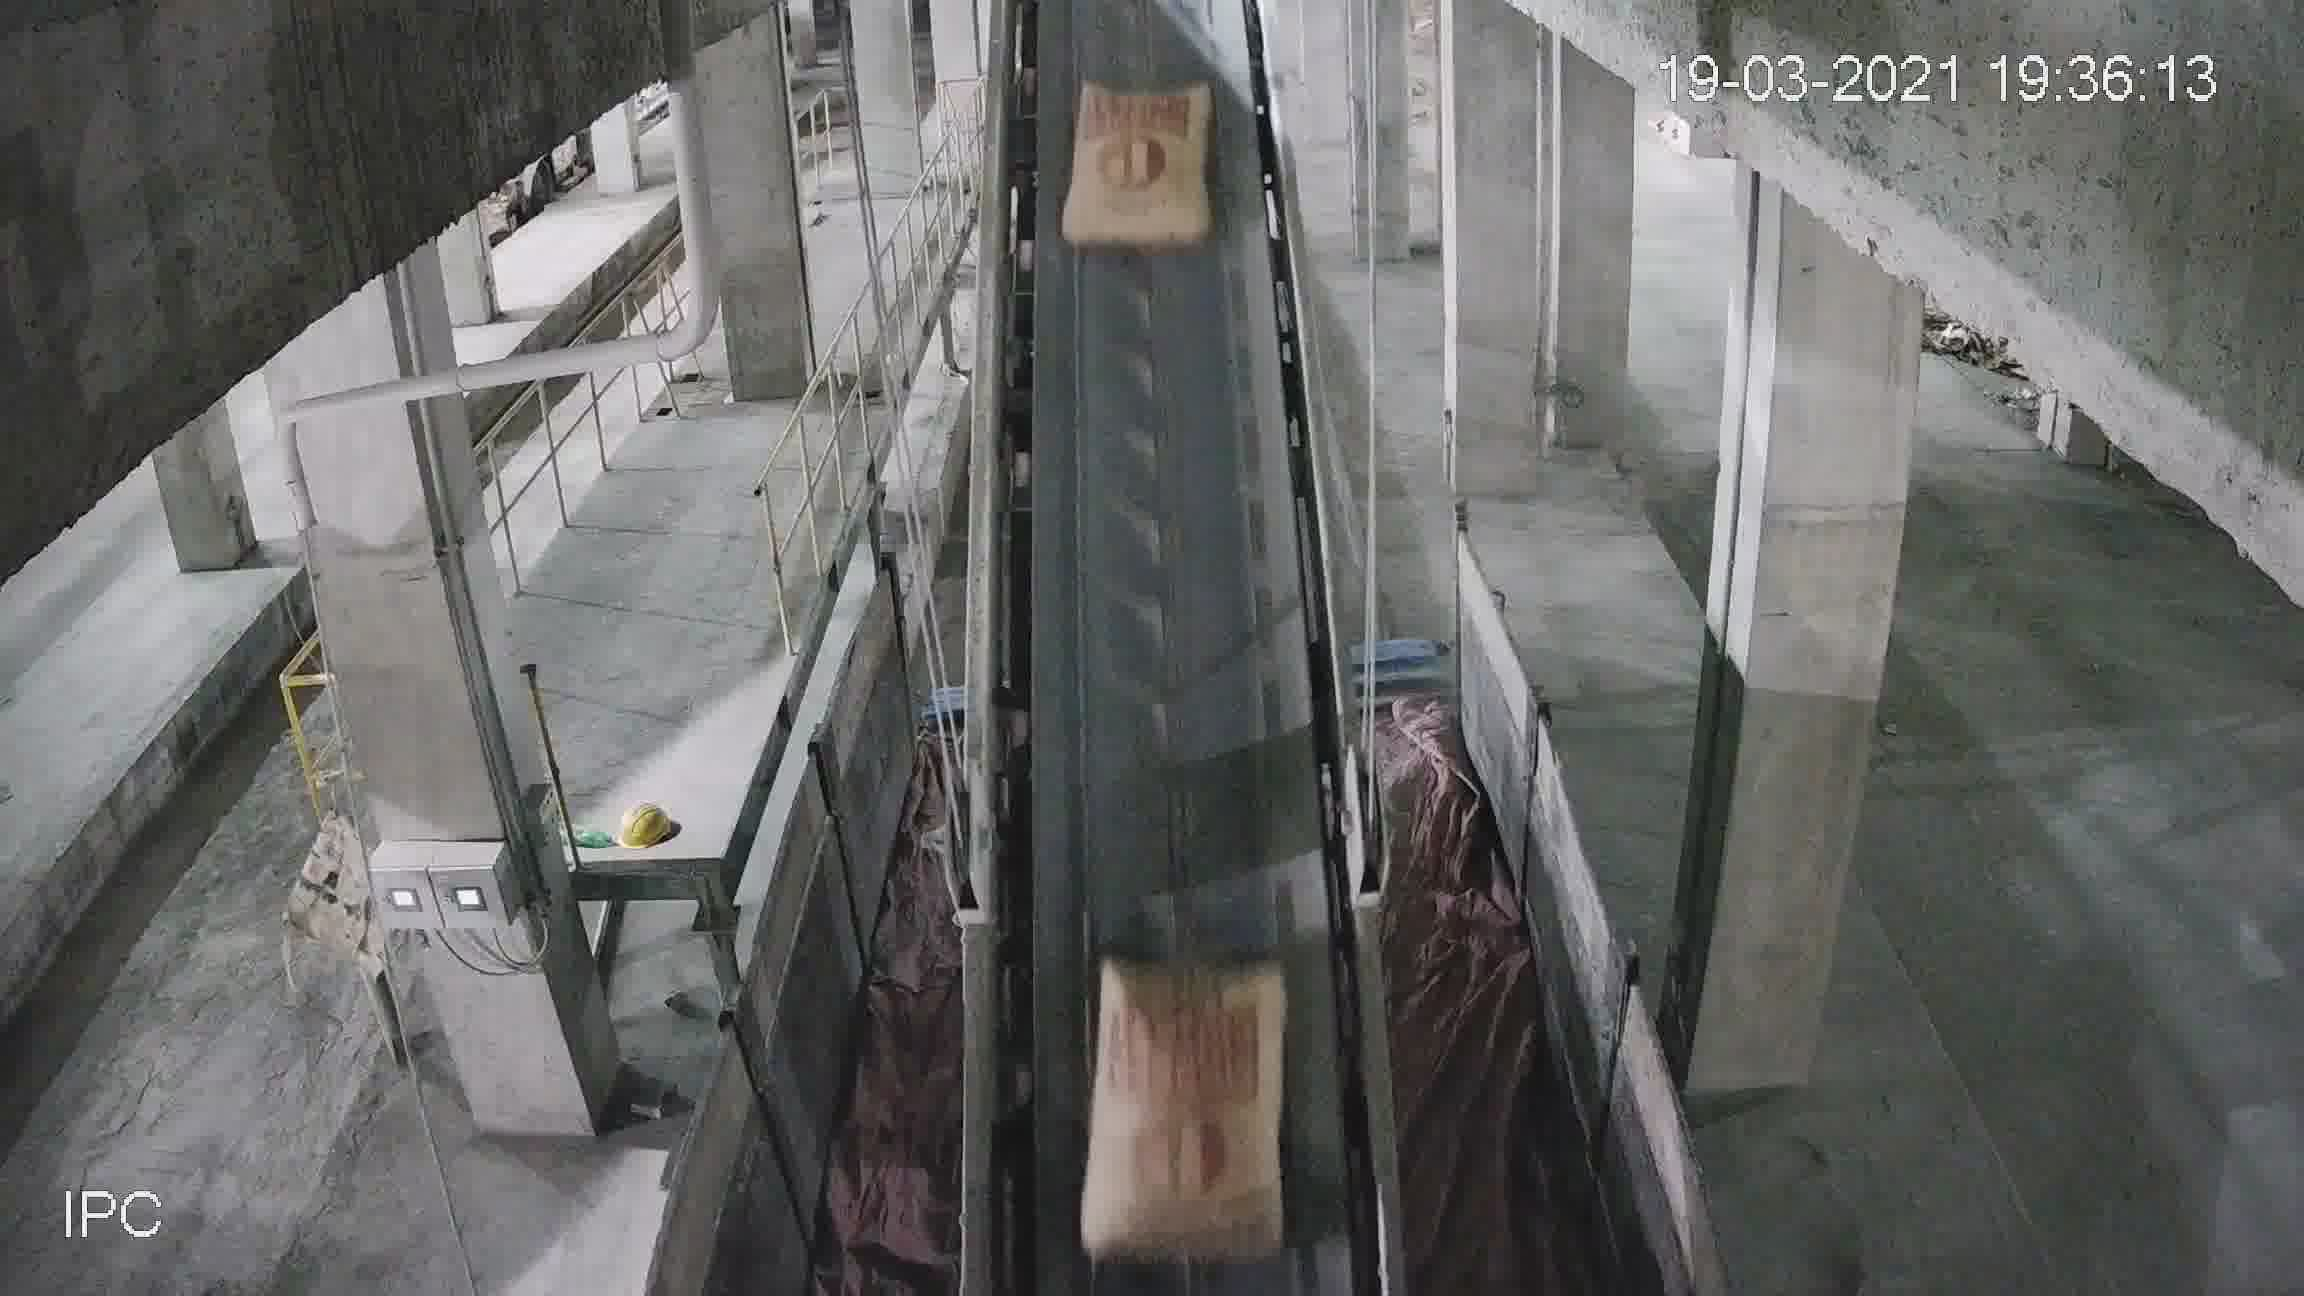bag: (1084, 948, 1288, 1264), (1070, 89, 1211, 248)
belt: (962, 33, 1381, 1225)
